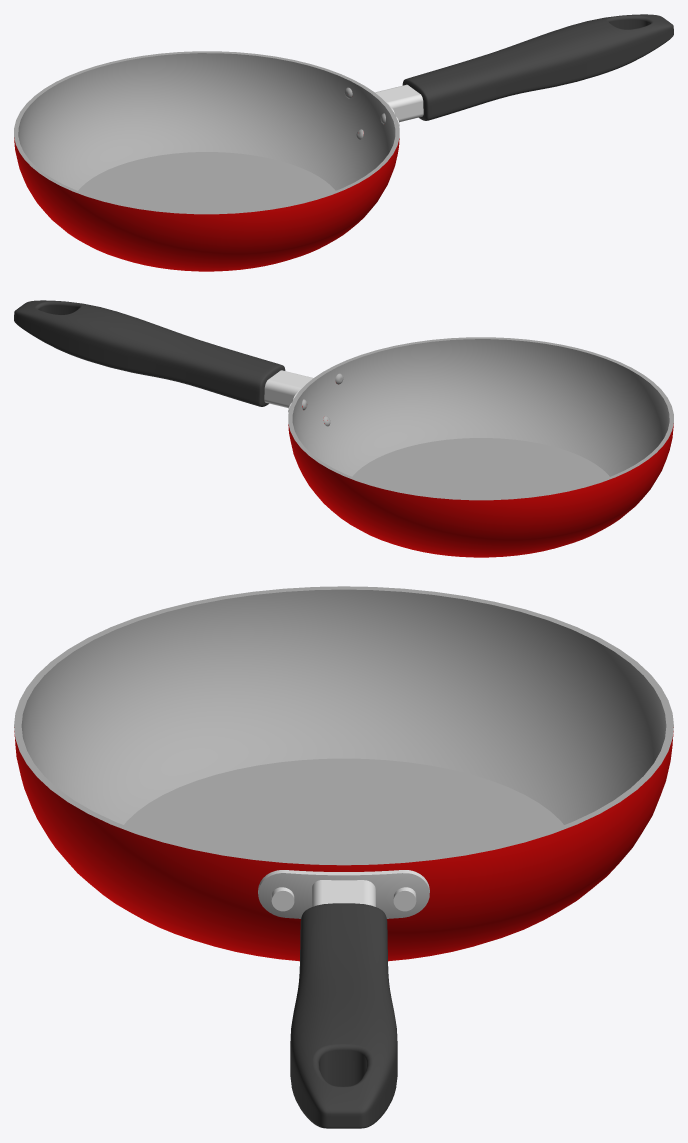
The model's file is フライパン.fbx.
The picture shows the model from 3 angles, top to bottom: view 1: azimuth 30°, elevation 25°; view 2: azimuth 150°, elevation 25°; view 3: azimuth 270°, elevation 25°; orthographic projection. The views are drawn at different scales.
Visible parts, largest first — view 1: Body; view 2: Body; view 3: Body.
Part boxes in pixels (x1,y1,x2,y2): Body: (14,14,673,271); Body: (14,300,673,557); Body: (14,586,673,1128).
Size of the model in its own units: 48.9 by 6.79 by 26.
